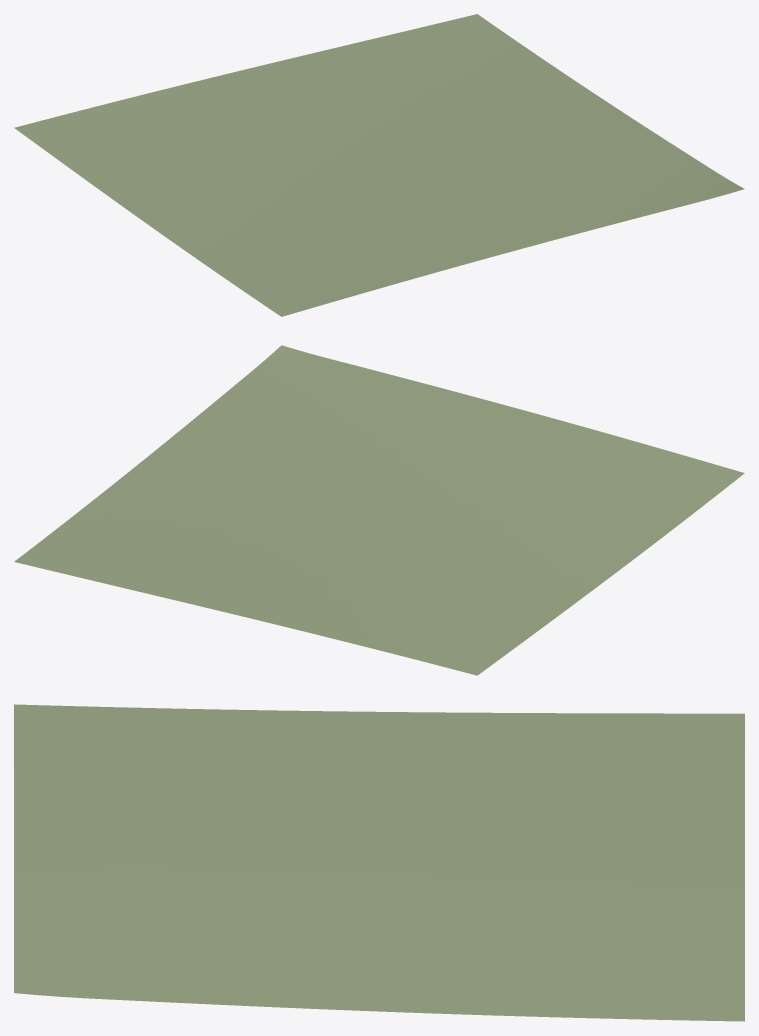
The model's file is expanse-12-2.glb.
The picture shows the model from 3 angles, top to bottom: view 1: azimuth 30°, elevation 25°; view 2: azimuth 150°, elevation 25°; view 3: azimuth 270°, elevation 25°; orthographic projection. The views are drawn at different scales.
Parts seen in each view (by area): view 1: expanse-12-2; view 2: expanse-12-2; view 3: expanse-12-2.
Part boxes in pixels (x1,y1,x2,y2): expanse-12-2: (14,14,744,316); expanse-12-2: (14,345,744,675); expanse-12-2: (14,704,744,1021).
Size of the model in its own units: 256 by 11.39 by 256.
